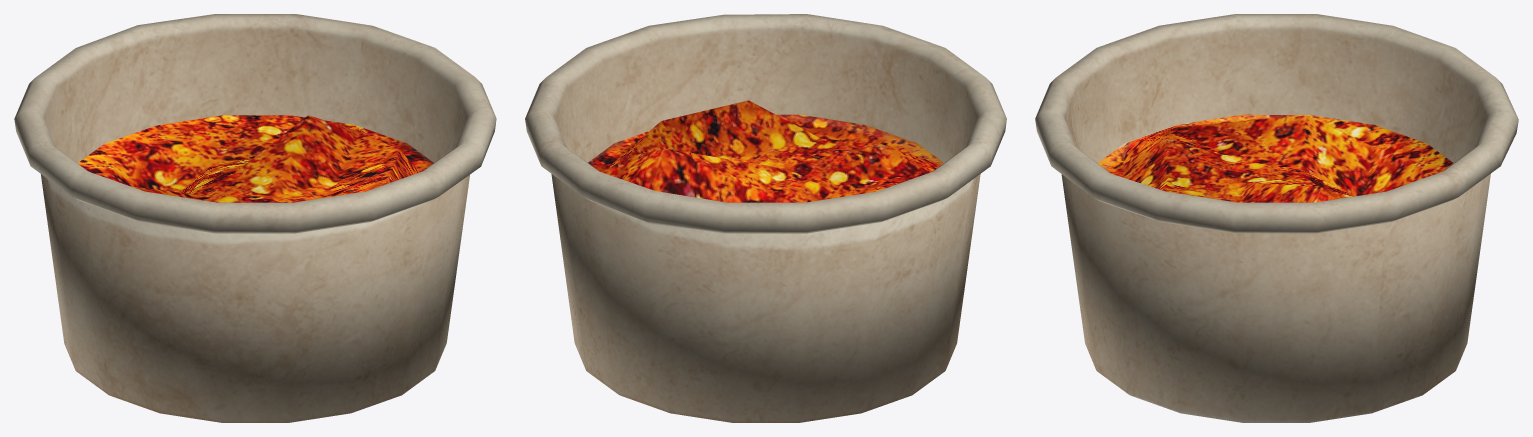
The model's file is hot_honey.glb.
3 views of the same model, side by side, from view 1: azimuth 30°, elevation 25°; view 2: azimuth 150°, elevation 25°; view 3: azimuth 270°, elevation 25° (orthographic).
Parts seen in each view (by area): view 1: Sauce_ranch_sauceMaterial_0; view 2: Sauce_ranch_sauceMaterial_0; view 3: Sauce_ranch_sauceMaterial_0.
Boxes of the visible parts, box(x1,y1,x2,y2) form: Sauce_ranch_sauceMaterial_0: box(14, 14, 496, 422); Sauce_ranch_sauceMaterial_0: box(525, 14, 1006, 422); Sauce_ranch_sauceMaterial_0: box(1035, 14, 1518, 422).
Bounding box in the file's own units: 1.49 × 0.806 × 1.51.
1 material, 1 textured.
